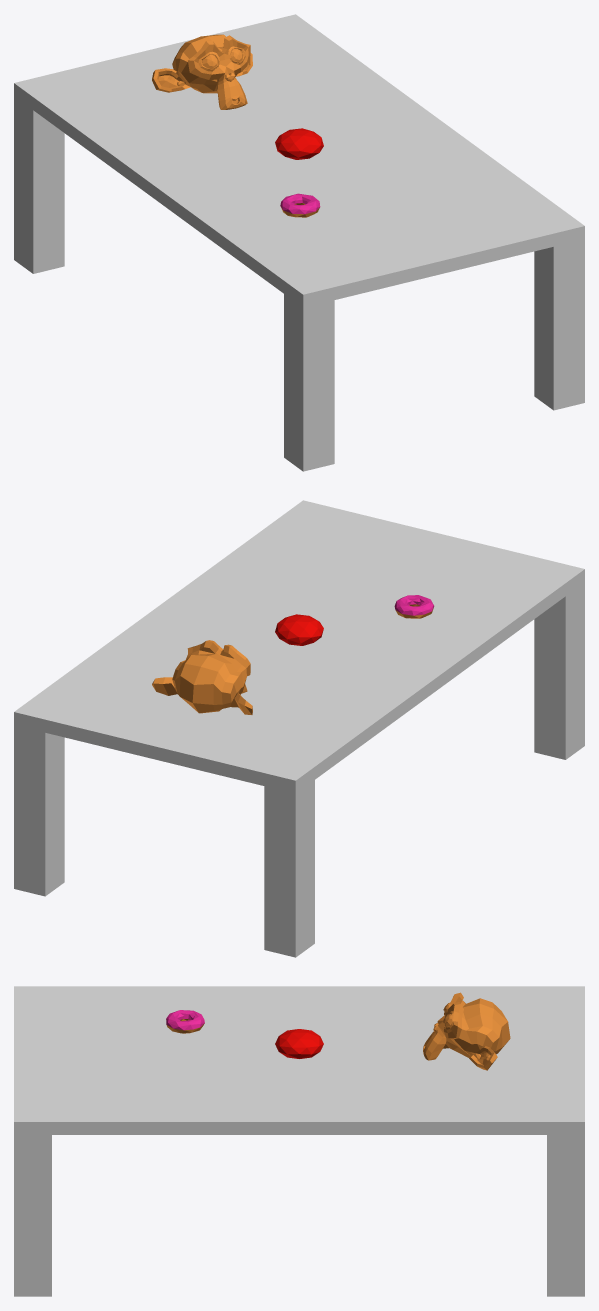
The model's file is placeholdertable.fbx.
3 renders of one model, top to bottom at view 1: azimuth 30°, elevation 25°; view 2: azimuth 150°, elevation 25°; view 3: azimuth 270°, elevation 25°, orthographic.
Visible parts, largest first — view 1: Cube.001, Suzanne, Icosphere, Torus; view 2: Cube.001, Suzanne, Icosphere, Torus; view 3: Cube.001, Suzanne, Icosphere, Torus.
Boxes of the visible parts, bbox=[...] form: Cube.001: bbox=[14, 14, 584, 471]; Suzanne: bbox=[152, 34, 252, 109]; Icosphere: bbox=[275, 128, 323, 159]; Torus: bbox=[280, 193, 320, 217]; Cube.001: bbox=[14, 500, 584, 957]; Suzanne: bbox=[152, 640, 252, 714]; Icosphere: bbox=[275, 614, 323, 645]; Torus: bbox=[394, 595, 434, 618]; Cube.001: bbox=[14, 986, 584, 1296]; Suzanne: bbox=[423, 992, 510, 1070]; Icosphere: bbox=[275, 1029, 323, 1058]; Torus: bbox=[166, 1010, 204, 1033].
Size of the model in its own units: 450 by 356 by 800.
